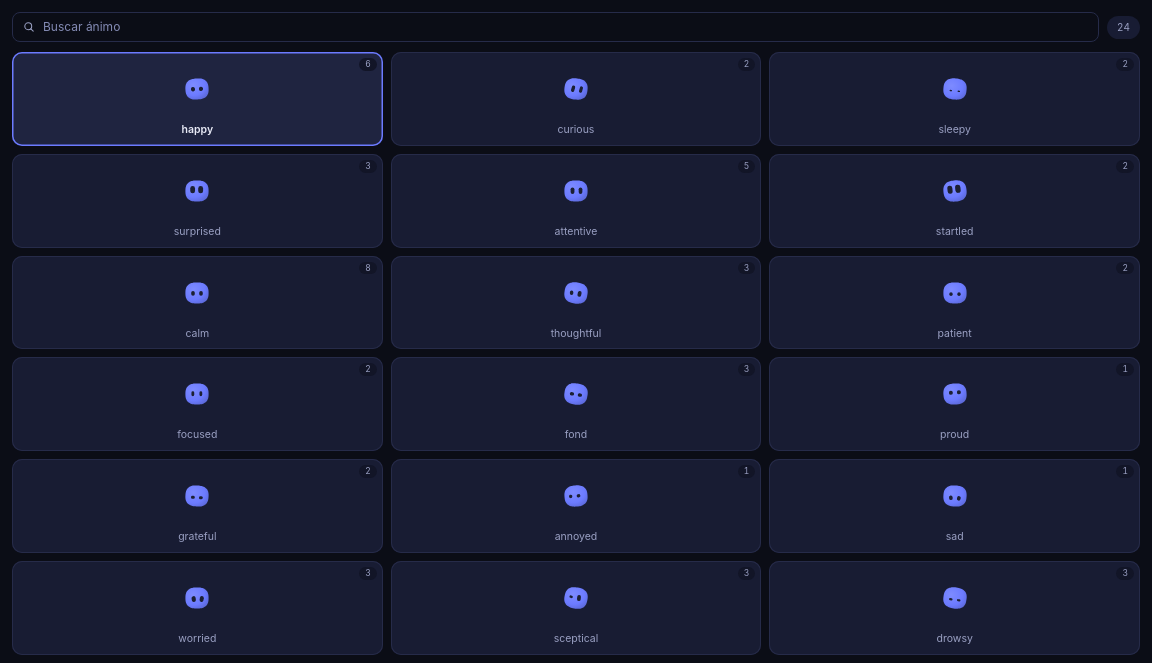
Test case: mood grid (FR-4.8, FR-4.9) › says so rather than showing an empty grid when nothing matches
Type "zzzz" into the search field labelled "Buscar ánimo".
click(566, 27); type("zzzz")  # box left=43, top=13, right=1088, bottom=41
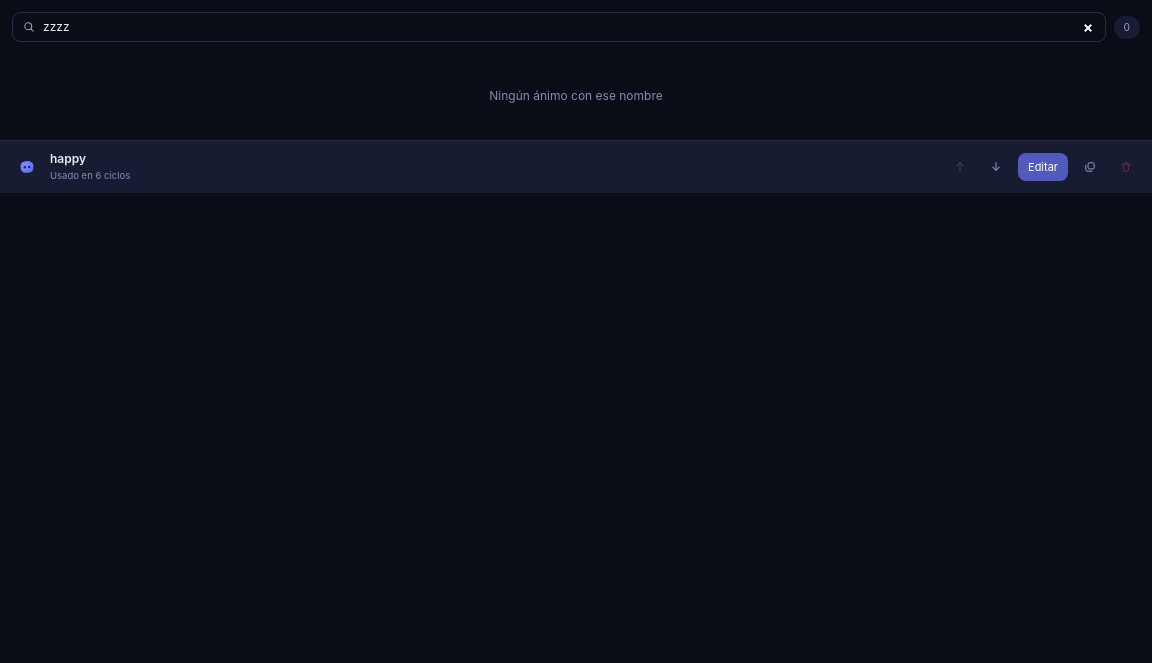
Result: no list items with test id "mood-card" are shown
Result: the text "Ningún ánimo con ese nombre" is shown at left=489, top=88, right=663, bottom=103
